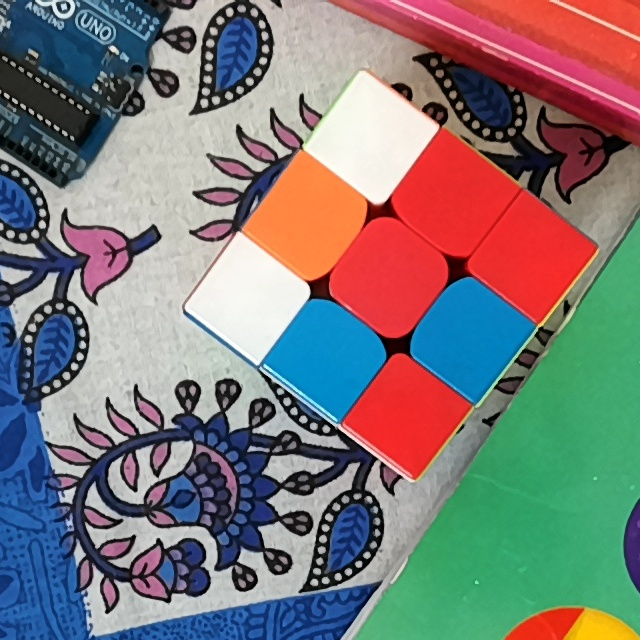tile: (418, 163, 486, 232), (276, 185, 343, 253), (356, 243, 424, 309), (497, 224, 563, 289), (216, 266, 283, 330), (334, 107, 402, 170), (372, 384, 439, 447), (435, 305, 501, 368), (292, 324, 360, 384)
